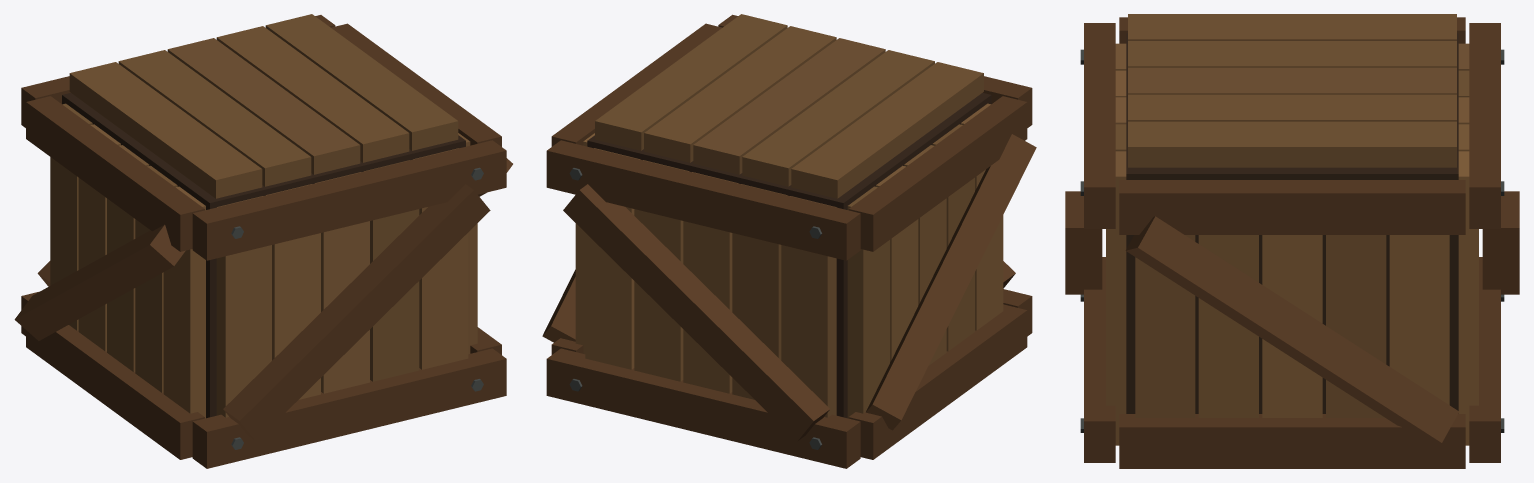
File: crate.glb
The picture shows the model from 3 angles, left to right: view 1: azimuth 30°, elevation 25°; view 2: azimuth 150°, elevation 25°; view 3: azimuth 270°, elevation 25°; orthographic projection. The views are drawn at different scales.
Visible parts, largest first — view 1: Timber; view 2: Timber; view 3: Timber.
Boxes of the visible parts, x1=… form: Timber: x1=14, y1=14, x2=512, y2=468; Timber: x1=542, y1=14, x2=1036, y2=468; Timber: x1=1065, y1=14, x2=1519, y2=468.
Bounding box in the file's own units: 1.33 × 0.9725 × 1.28.
